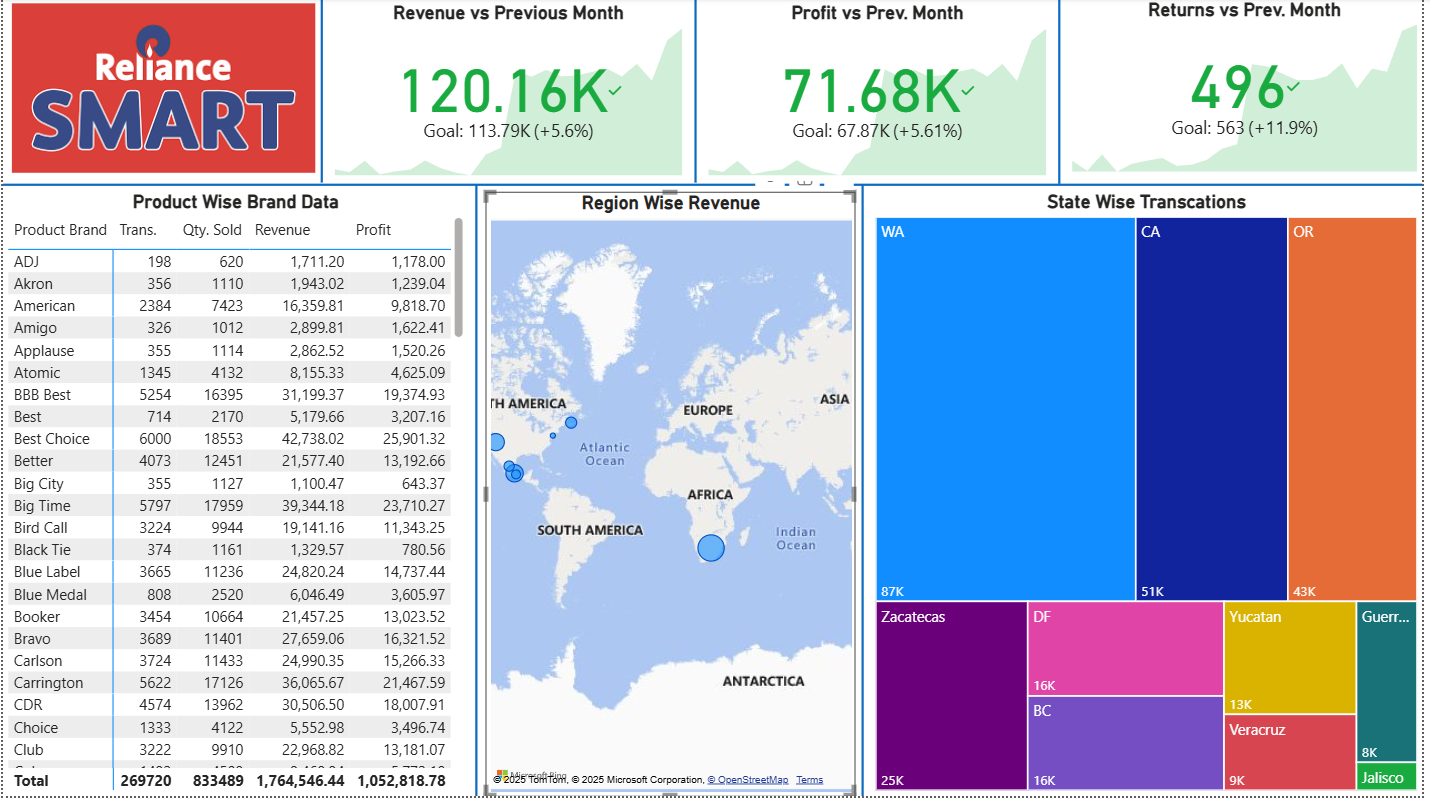

This screenshot's page, from the dashboard's own definition file:
{"tool":"powerbi","page":{"name":"Primary Report","canvas":[1280,720],"ordinal":0},"visuals":[{"type":"image","box":[0,0,289.8,162.2],"z":0},{"type":"shape","box":[0,162.2,1280,12.2],"z":1000},{"type":"pivotTable","title":"Product Wise Brand Data","fields":{"Rows":["d_Products.product_brand"],"Values":["Measure.M_Total_Transcations","Measure.M_quantity_sold","Measure.M_Total_Revenue","Measure.M_total_Profit"]},"box":[0,174,420,546],"z":2000},{"type":"shape","box":[420.5,167.9,12.8,552.6],"z":3000},{"type":"map","title":"Region Wise Revenue","fields":{"Category":["d_Regions.sales_region"],"Size":["Measure.M_Total_Revenue"]},"box":[434.6,174.4,334.6,546.2],"z":4000},{"type":"shape","box":[769.2,167.9,12.8,552.6],"z":5000},{"type":"treemap","title":"State Wise Transcations","fields":{"Group":["d_Stores.store_state"],"Values":["Measure.M_Total_Transcations"]},"box":[782,174,498,546],"z":6000},{"type":"shape","box":[280.2,0,13.6,166.7],"z":7000},{"type":"kpi","title":"Revenue vs Previous Month","fields":{"Indicator":["Measure.M_Total_Revenue"],"TrendLine":["d_Calendar.Start of Month"],"Goal":["Measure.M_Previous_month_Revenue"]},"box":[293.8,3.7,323.5,161.7],"z":8000},{"type":"shape","box":[617.3,0,13.6,166.7],"z":9000},{"type":"kpi","title":"Profit vs Prev. Month","fields":{"TrendLine":["d_Calendar.Start of Month"],"Indicator":["Measure.M_total_Profit"],"Goal":["Measure.M_Previous_Month_Profit"]},"box":[630.9,3.7,314.8,161.7],"z":10000},{"type":"shape","box":[945.7,1.2,13.6,166.7],"z":11000},{"type":"kpi","title":"Returns vs Prev. Month","fields":{"TrendLine":["d_Calendar.Start of Month"],"Indicator":["Measure.M_Total_Returns"],"Goal":["Measure.M_Previous_month_returns"]},"box":[959.3,0,321,161.7],"z":12000}]}

Visuals, with their boxes in screenshot pixels (x1, y1, x2, y2), scaled from the page's 1280x720 canvas onto the 1430x801 screenshot:
image: {"x1": 0, "y1": 0, "x2": 324, "y2": 180}
shape: {"x1": 0, "y1": 180, "x2": 1429, "y2": 194}
"Product Wise Brand Data" pivotTable: {"x1": 0, "y1": 194, "x2": 469, "y2": 800}
shape: {"x1": 470, "y1": 187, "x2": 484, "y2": 800}
"Region Wise Revenue" map: {"x1": 486, "y1": 194, "x2": 859, "y2": 800}
shape: {"x1": 859, "y1": 187, "x2": 874, "y2": 800}
"State Wise Transcations" treemap: {"x1": 874, "y1": 194, "x2": 1429, "y2": 800}
shape: {"x1": 313, "y1": 0, "x2": 328, "y2": 185}
"Revenue vs Previous Month" kpi: {"x1": 328, "y1": 4, "x2": 690, "y2": 184}
shape: {"x1": 690, "y1": 0, "x2": 705, "y2": 185}
"Profit vs Prev. Month" kpi: {"x1": 705, "y1": 4, "x2": 1057, "y2": 184}
shape: {"x1": 1057, "y1": 1, "x2": 1072, "y2": 187}
"Returns vs Prev. Month" kpi: {"x1": 1072, "y1": 0, "x2": 1429, "y2": 180}
